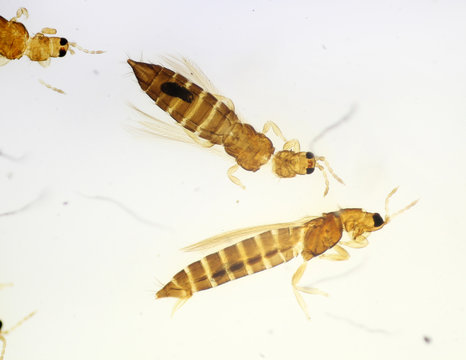Thrips: (119, 45, 357, 202), (165, 189, 417, 325)
